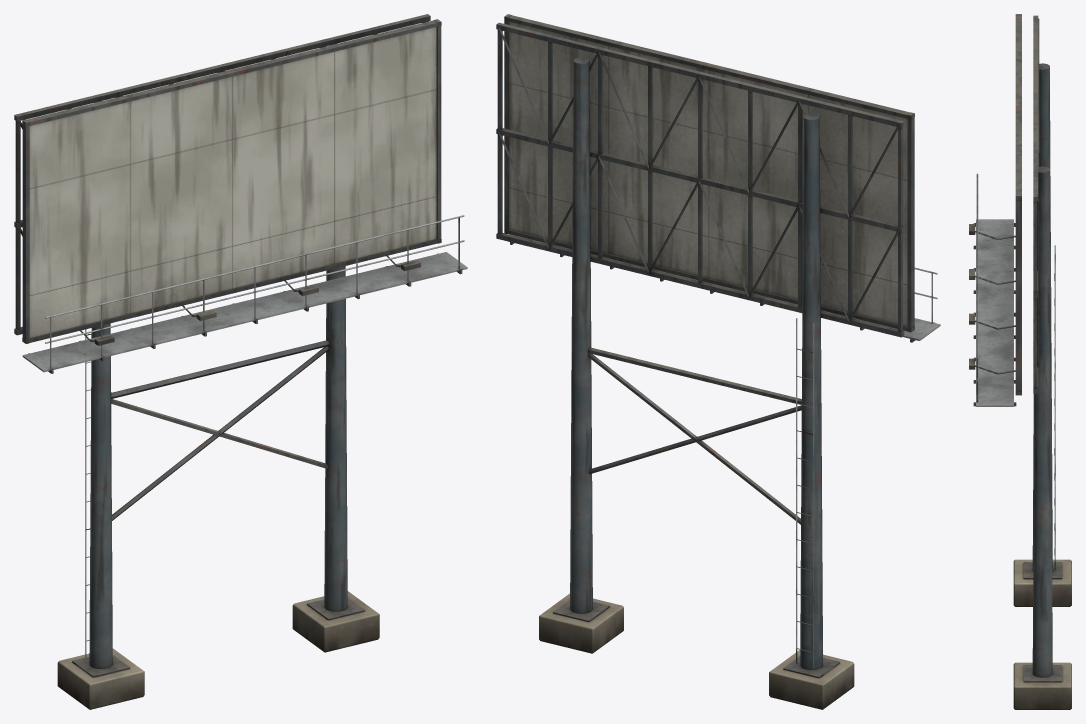
File: billboard.glb
The picture shows the model from 3 angles, left to right: view 1: azimuth 30°, elevation 25°; view 2: azimuth 150°, elevation 25°; view 3: azimuth 270°, elevation 25°; orthographic projection. The views are drawn at different scales.
Parts seen in each view (by area): view 1: body; view 2: body; view 3: body.
Boxes of the visible parts, bbox=[...] form: body: bbox=[14, 14, 467, 709]; body: bbox=[496, 14, 940, 709]; body: bbox=[969, 14, 1071, 709].
Size of the model in its own units: 8.3 by 11.27 by 1.94.
Materials: 1 (1 with a texture image).
